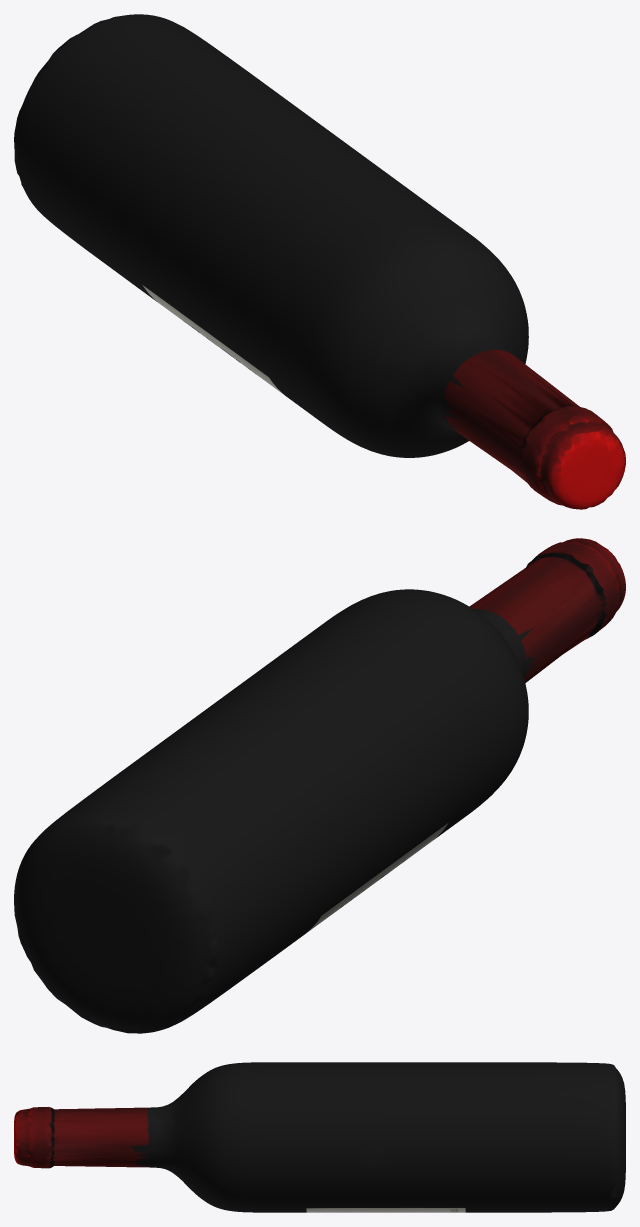
The model's file is bottle2.glb.
The picture shows the model from 3 angles, top to bottom: view 1: azimuth 30°, elevation 25°; view 2: azimuth 150°, elevation 25°; view 3: azimuth 270°, elevation 25°; orthographic projection. The views are drawn at different scales.
Visible parts, largest first — view 1: Bottle2; view 2: Bottle2; view 3: Bottle2.
Boxes of the visible parts, <box> form: Bottle2: <box>14,14,625,509</box>; Bottle2: <box>14,538,625,1033</box>; Bottle2: <box>14,1062,625,1212</box>.
Size of the model in its own units: 5.19 by 5.19 by 21.16.
Materials: 1 (1 with a texture image).
